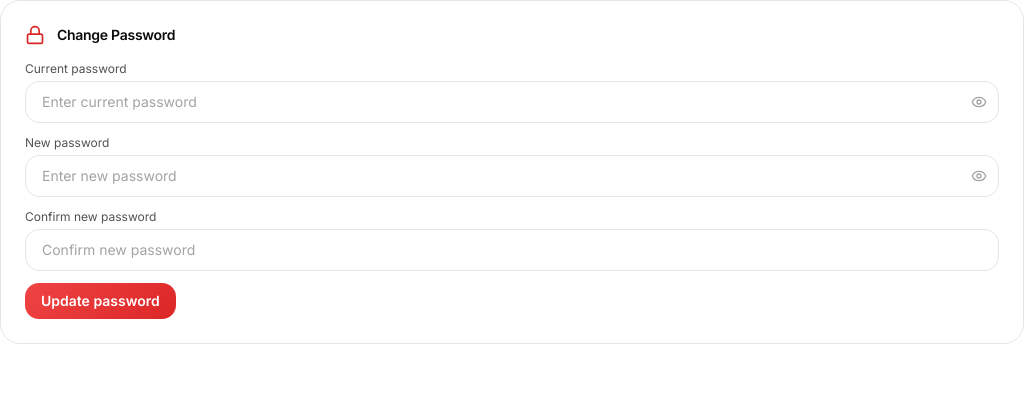
Scenario: ChangePasswordForm › falls back to a generic message for non-Error rejections
Type "old-password" into the password field with placeholder "Enter current password" at (512, 102), box [25,81,999,123]
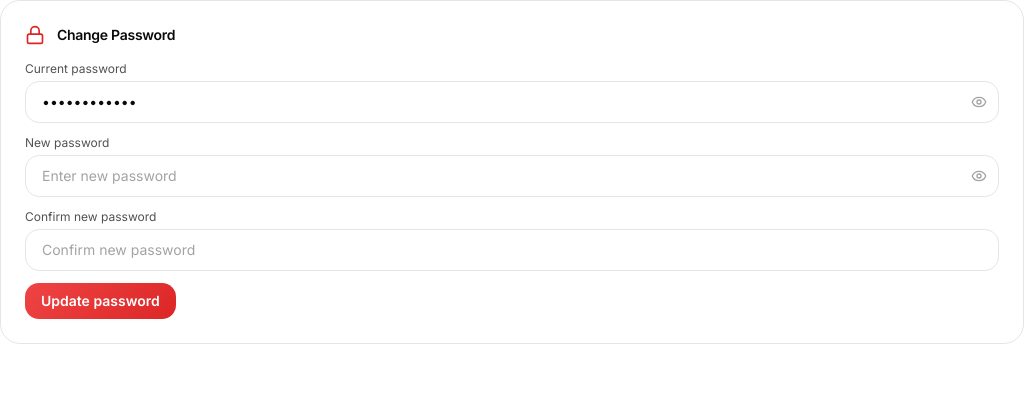
Type "Abcdefgh123!" into the password field with placeholder "Enter new password" at (512, 176), box [25,155,999,197]
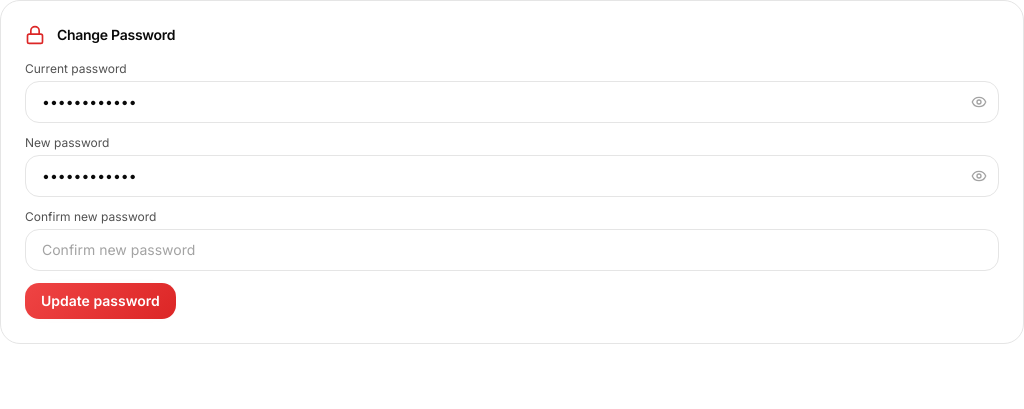
Type "Abcdefgh123!" into the password field with placeholder "Confirm new password" at (512, 250), box [25,229,999,271]
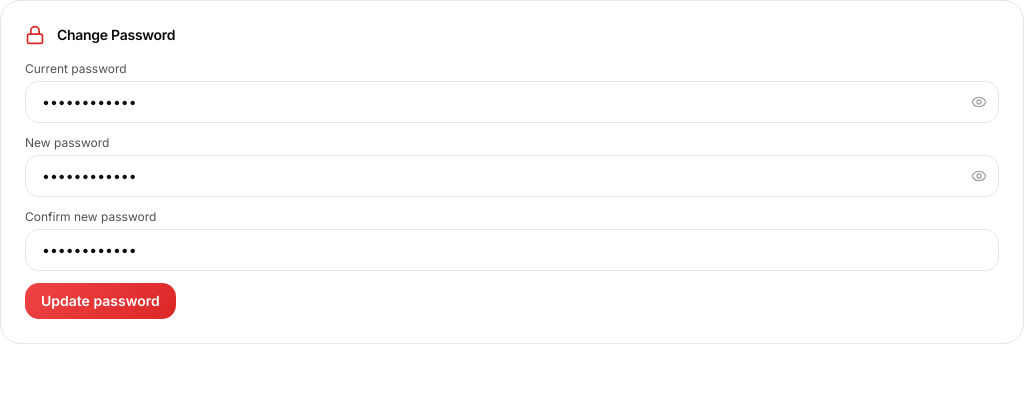
Click the button "Update password" at (100, 301), box [25,283,176,319]
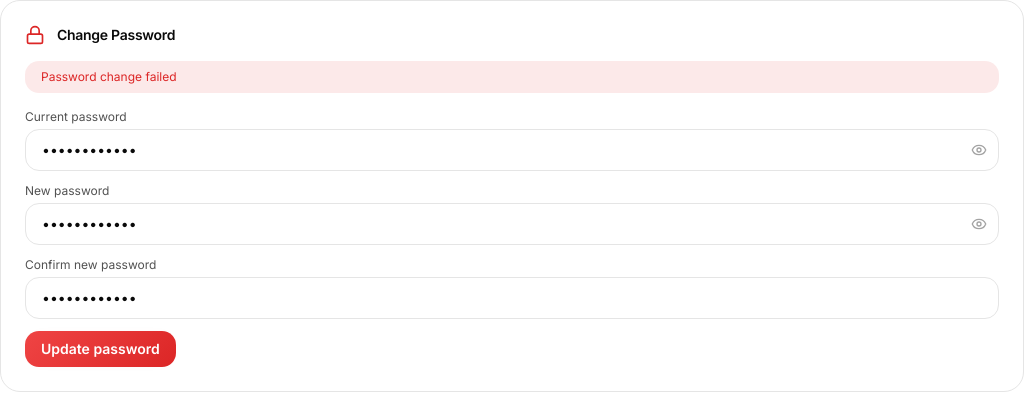
Check: the text "Password change failed" is shown, box [25,61,999,93]
